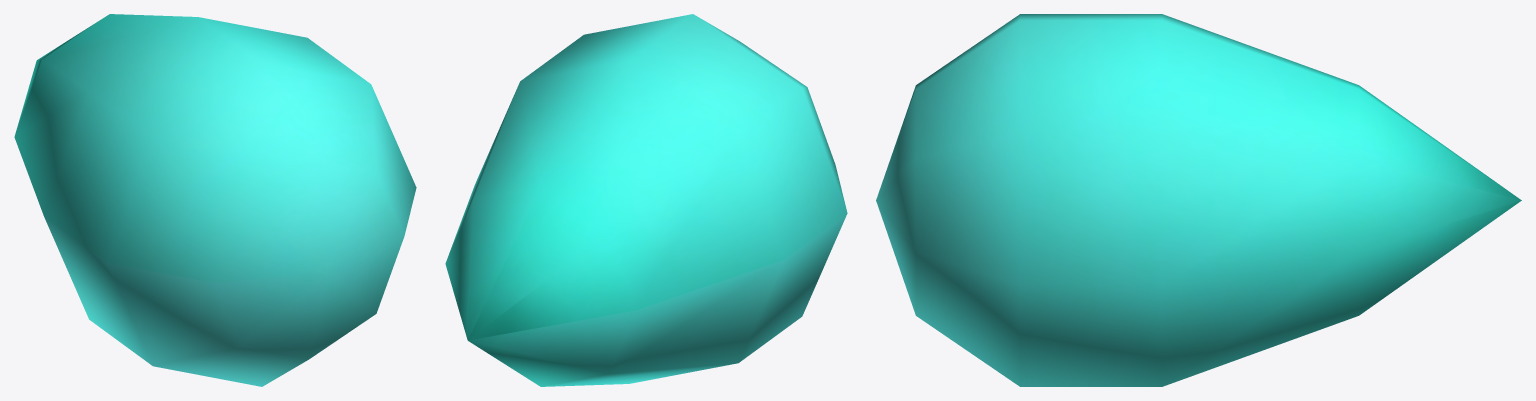
Rendered from ghost_spell.gltf.
3 renders of one model, left to right at view 1: azimuth 30°, elevation 25°; view 2: azimuth 150°, elevation 25°; view 3: azimuth 270°, elevation 25°, orthographic. The views are drawn at different scales.
Parts seen in each view (by area): view 1: Sphere; view 2: Sphere; view 3: Sphere.
Part boxes in pixels (x1,y1,x2,y2): Sphere: (14,14,416,386); Sphere: (445,14,847,386); Sphere: (876,14,1521,386).
Bounding box in the file's own units: 0.3804 × 0.3804 × 0.6191.
1 material, 1 textured.
